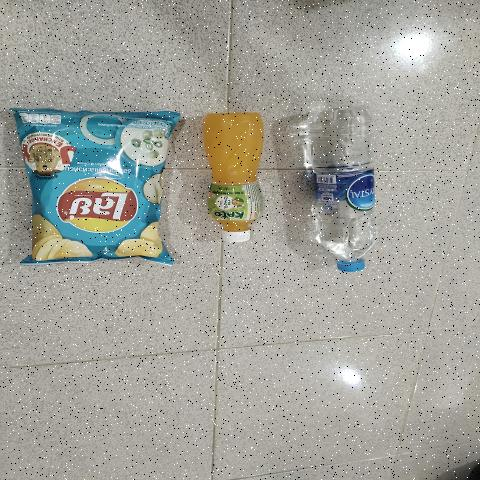crystal: (313, 113, 378, 272)
lay_blue: (36, 122, 158, 258)
